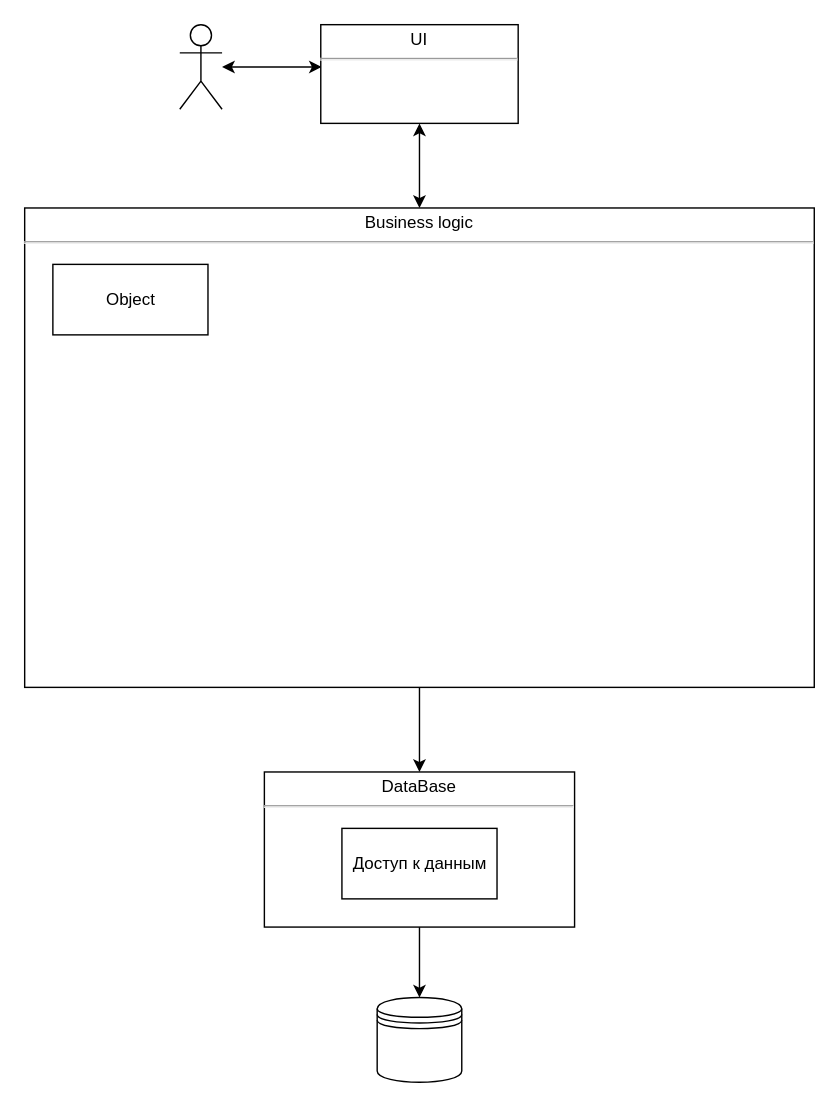
The diagram is 839 pixels wide and 1107 high, and some of its shapes have lost their labels. Here are the shapes that lost their labels. From the top down, the centre of each, then its label:
point 200,66: User
point 419,1039: BD
